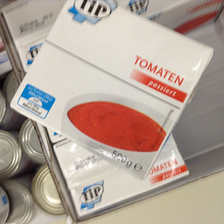tomato_sauce: (9, 1, 215, 181)
